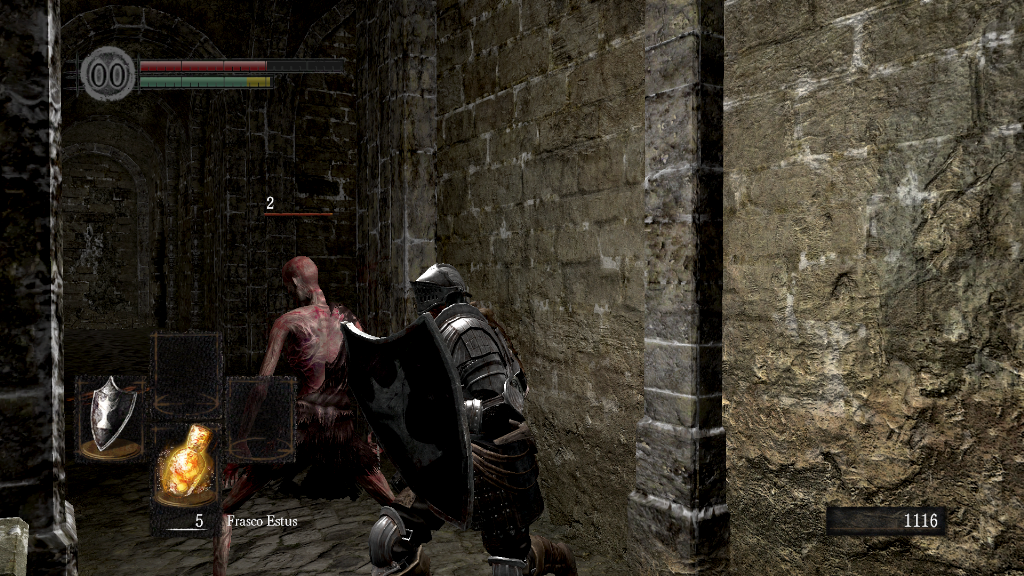health: (138, 58, 343, 71)
hollow: (216, 256, 366, 576)
humanity: (80, 45, 136, 102)
player: (339, 259, 579, 576)
souls: (825, 506, 945, 536)
stamina: (138, 74, 274, 88)
